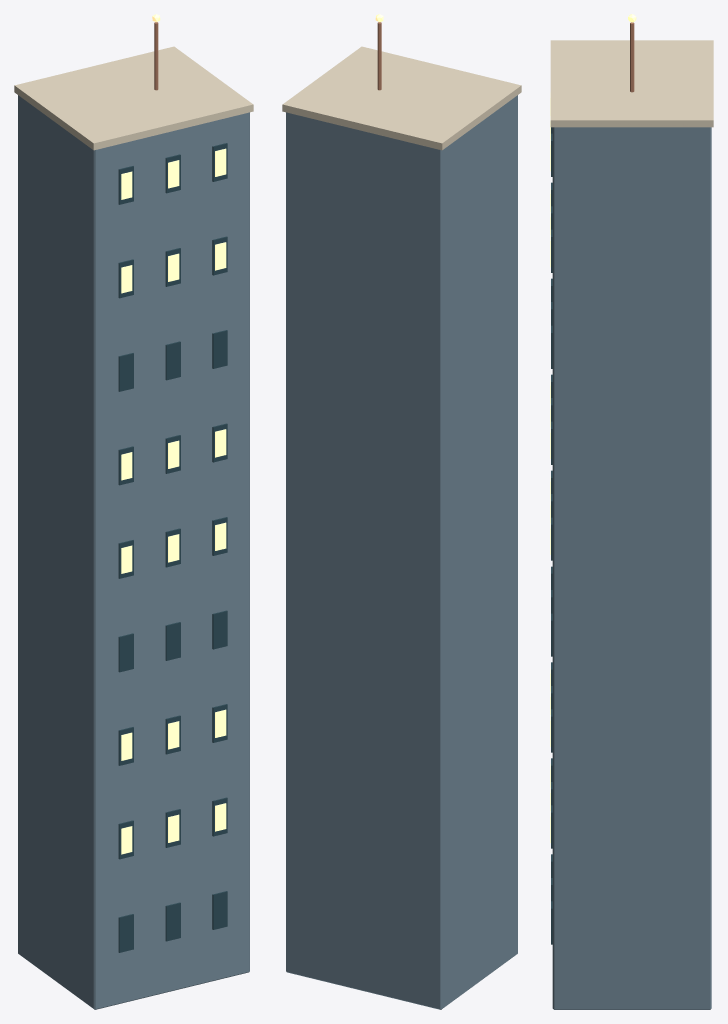
Rendered from sf4_far_block_2.glb.
The picture shows the model from 3 angles, left to right: view 1: azimuth 30°, elevation 25°; view 2: azimuth 150°, elevation 25°; view 3: azimuth 270°, elevation 25°; orthographic projection. The views are drawn at different scales.
Visible parts, largest first — view 1: sf4_far_block_2__sf3-dusty-blue, sf4_far_block_2__sf3-warm-ivory, sf4_far_block_2__sf3-deep-glass, sf4_far_block_2__sf3-warm-window; view 2: sf4_far_block_2__sf3-dusty-blue, sf4_far_block_2__sf3-warm-ivory; view 3: sf4_far_block_2__sf3-dusty-blue, sf4_far_block_2__sf3-warm-ivory, sf4_far_block_2__sf3-deep-glass, sf4_far_block_2__sf3-warm-window.
Part boxes in pixels (x1,y1,x2,y2): sf4_far_block_2__sf3-dusty-blue: (18,95,249,1009); sf4_far_block_2__sf3-warm-ivory: (14,46,253,150); sf4_far_block_2__sf3-deep-glass: (118,143,227,952); sf4_far_block_2__sf3-warm-window: (121,14,226,854); sf4_far_block_2__sf3-dusty-blue: (286,95,517,1009); sf4_far_block_2__sf3-warm-ivory: (282,46,521,150); sf4_far_block_2__sf3-dusty-blue: (552,127,711,1009); sf4_far_block_2__sf3-warm-ivory: (550,40,713,127); sf4_far_block_2__sf3-deep-glass: (551,127,552,944); sf4_far_block_2__sf3-warm-window: (550,14,636,842).
Bounding box in the file's own units: 7.15 × 40.38 × 6.16.
